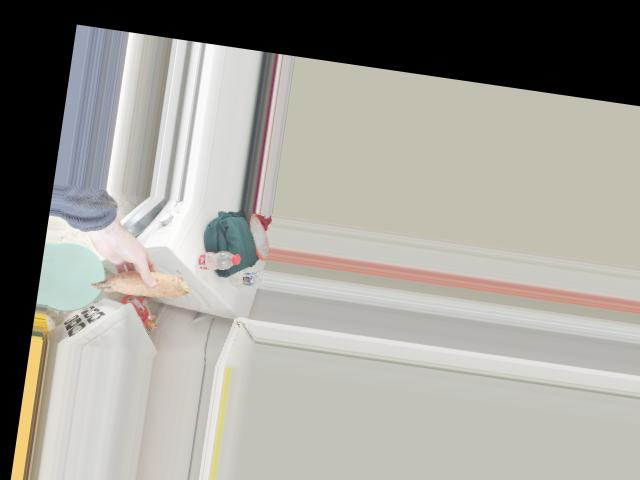sweet_potato: (96, 260, 182, 300)
